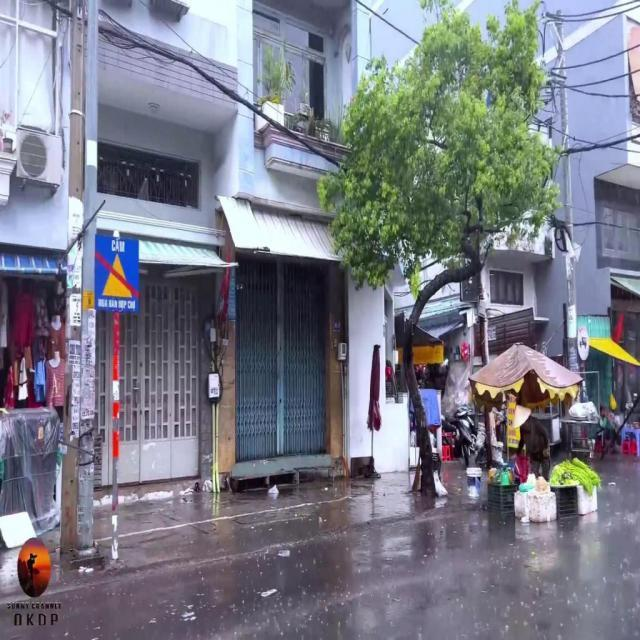106-cam-oto-tai: (577, 326, 590, 361)
